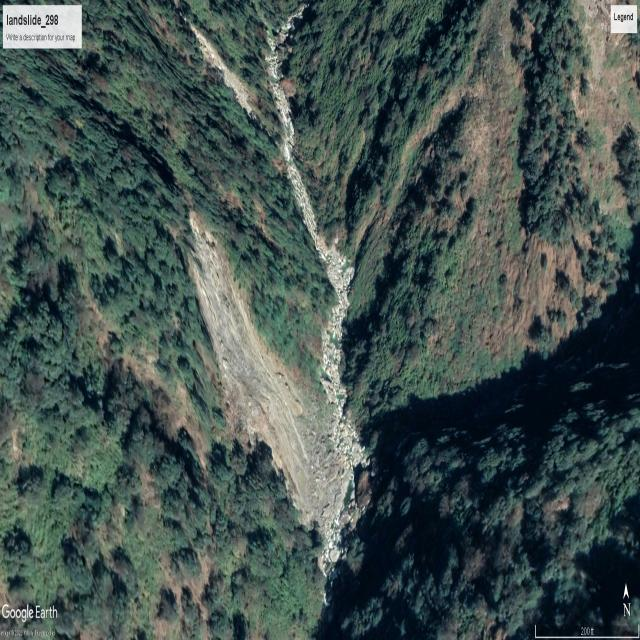Landslide: (187, 224, 314, 549)
